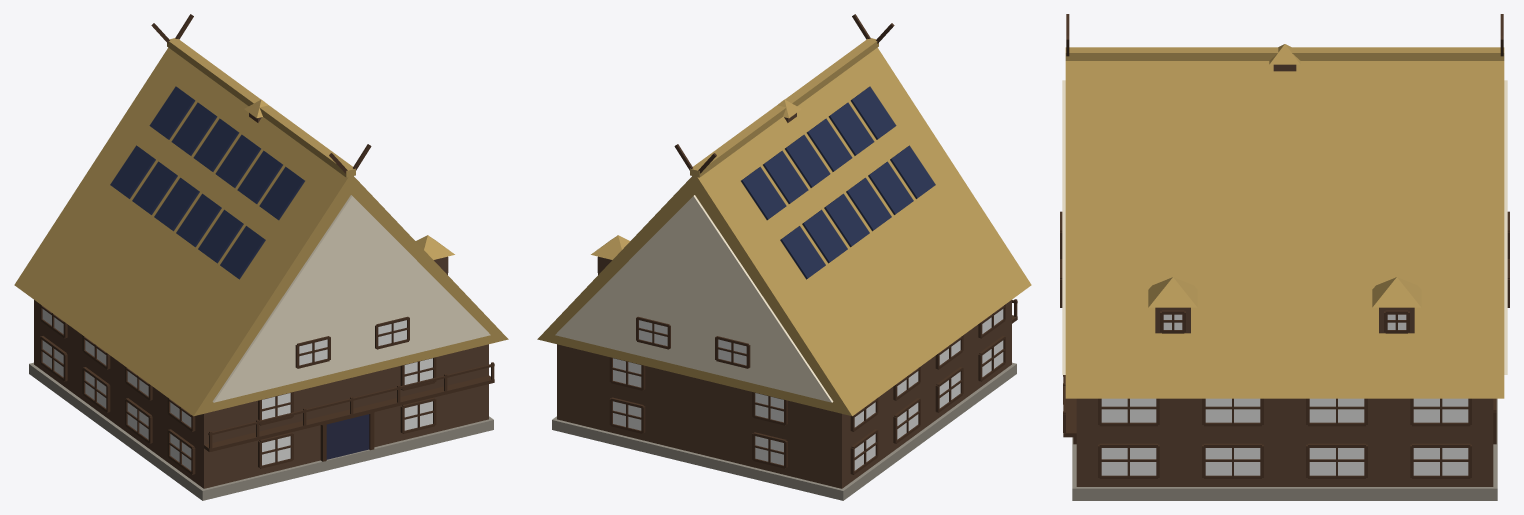
The model's file is house-2x2-2f-gassho-a-solar.glb.
3 renders of one model, left to right at view 1: azimuth 30°, elevation 25°; view 2: azimuth 150°, elevation 25°; view 3: azimuth 270°, elevation 25°, orthographic. The views are drawn at different scales.
Parts seen in each view (by area): view 1: house-2x2-2f-gassho-a-solar; view 2: house-2x2-2f-gassho-a-solar; view 3: house-2x2-2f-gassho-a-solar.
Part boxes in pixels (bbox=[...]): house-2x2-2f-gassho-a-solar: bbox=[14, 14, 508, 500]; house-2x2-2f-gassho-a-solar: bbox=[537, 14, 1031, 500]; house-2x2-2f-gassho-a-solar: bbox=[1060, 14, 1509, 500].
Bounding box in the file's own units: 1.99 × 1.92 × 2.01.
1 material, 1 textured.
